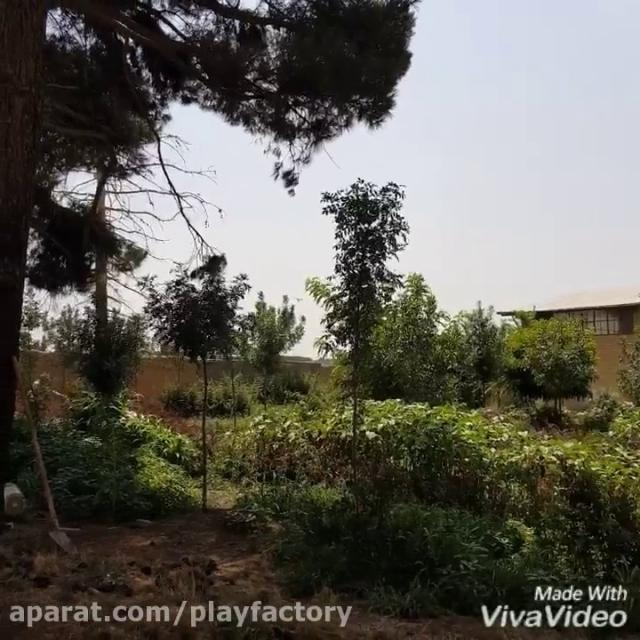drone: (292, 292, 304, 303)
